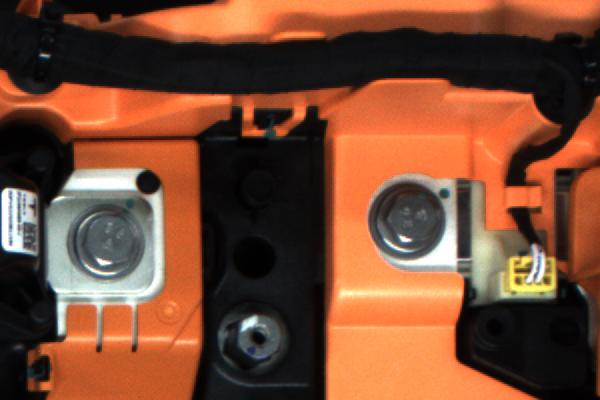nut_b: (362, 180, 451, 267), (69, 202, 147, 280)
